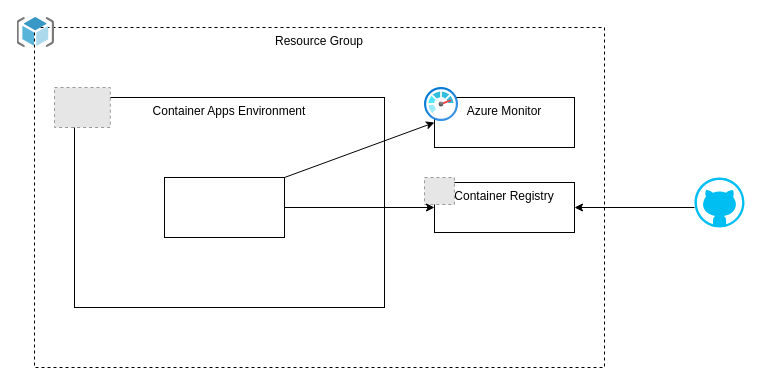
Image size: 776x385. Some labels were removed from this diagram. Grey dashed boxes stand in for pictures. The shapes that lost their labels are listed below. From the top down, each one's centre as x and y in pixels, then its label:
(x=224, y=207): Deno app
(x=719, y=202): GitHub Actions
